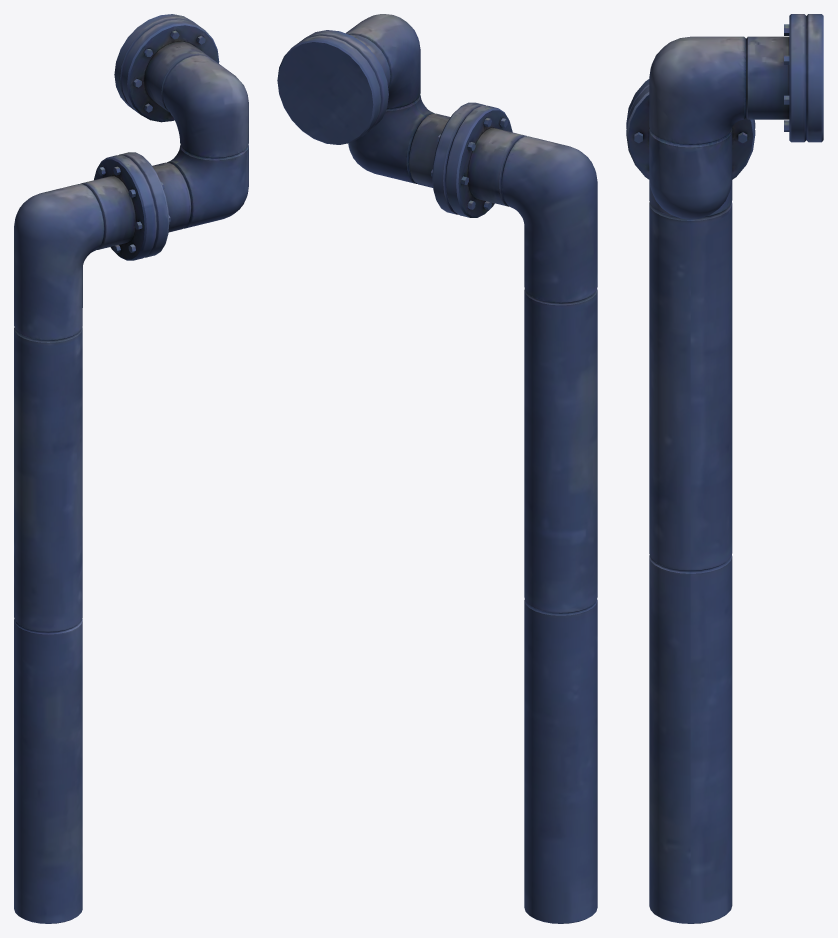
3 views of the same model, side by side, from view 1: azimuth 30°, elevation 25°; view 2: azimuth 150°, elevation 25°; view 3: azimuth 270°, elevation 25° (orthographic). The views are drawn at different scales.
Parts seen in each view (by area): view 1: body0_model0_lod0_mesh0; view 2: body0_model0_lod0_mesh0; view 3: body0_model0_lod0_mesh0.
Part boxes in pixels (bbox=[...]): body0_model0_lod0_mesh0: bbox=[14, 14, 248, 923]; body0_model0_lod0_mesh0: bbox=[277, 14, 597, 923]; body0_model0_lod0_mesh0: bbox=[626, 14, 823, 923].
Bounding box in the file's own units: 313 × 1006 × 182.
Materials: 1 (1 with a texture image).
